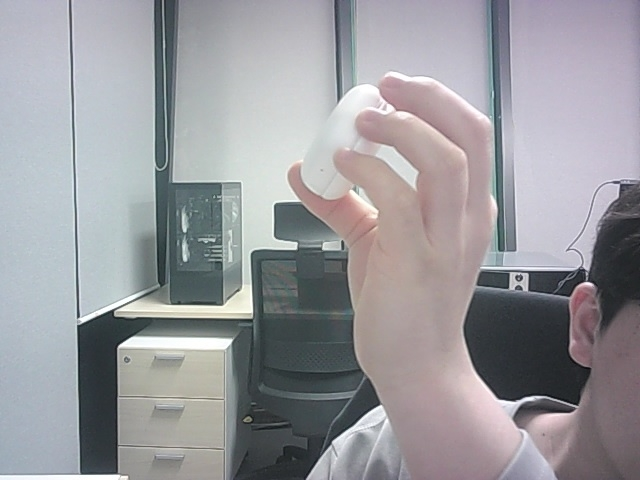case: (301, 85, 393, 199)
